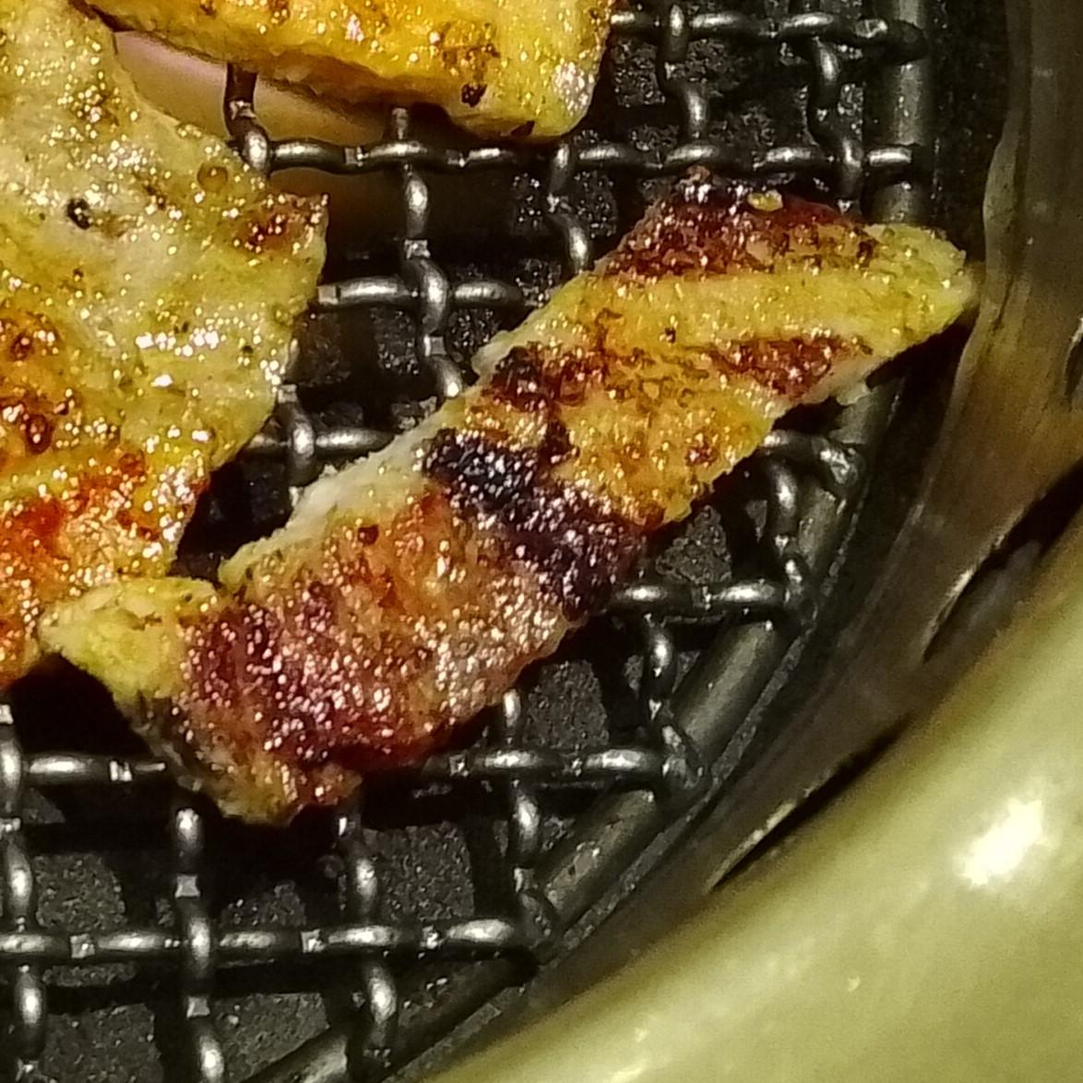Overcooked: (38, 171, 972, 822)
